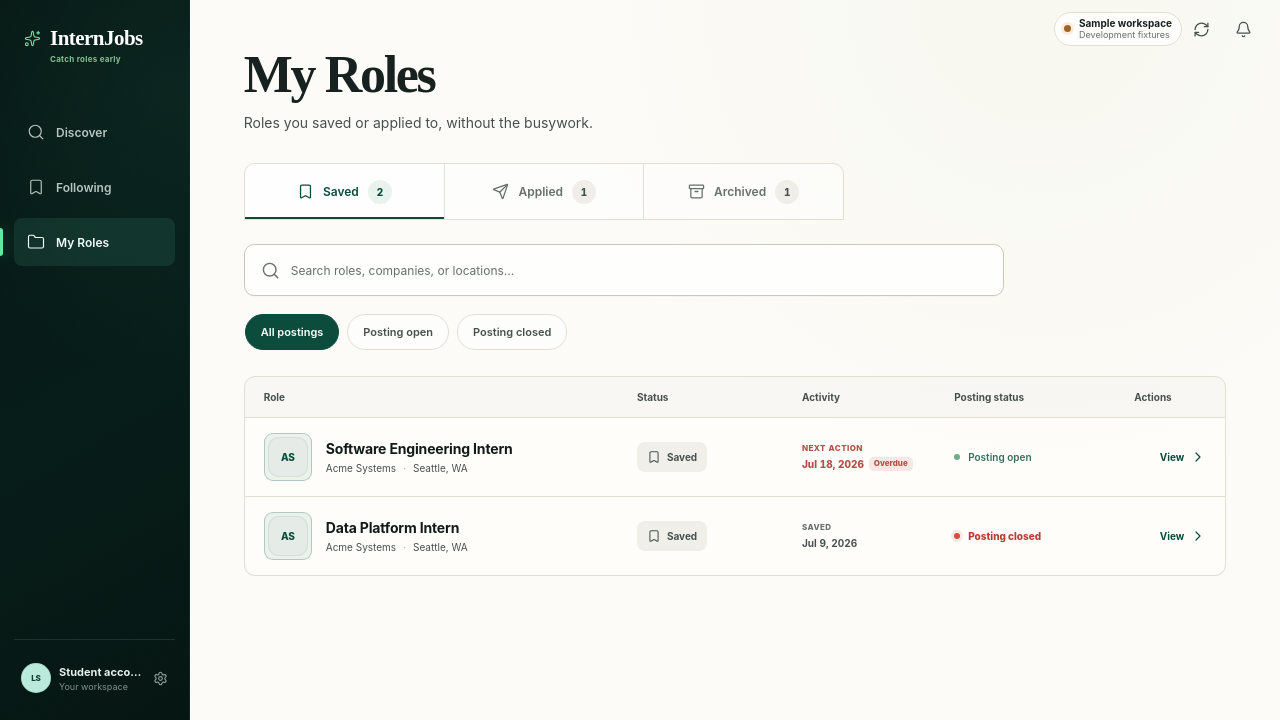
student workspace › groups saved, progressed, and archived roles while preserving useful stage details
This screenshot has width=1280, height=720.
expect the heading "My Roles" is shown: met, box [244, 46, 434, 103]
expect the text "Roles you saved or applied to, without the busywork." is shown: met, box [244, 114, 593, 131]
What coordinates should you click on to do the following:
click the tab with aria-label "Applied, 1 role"
I would click on:
 (544, 192)
Its box is [444, 164, 643, 219].
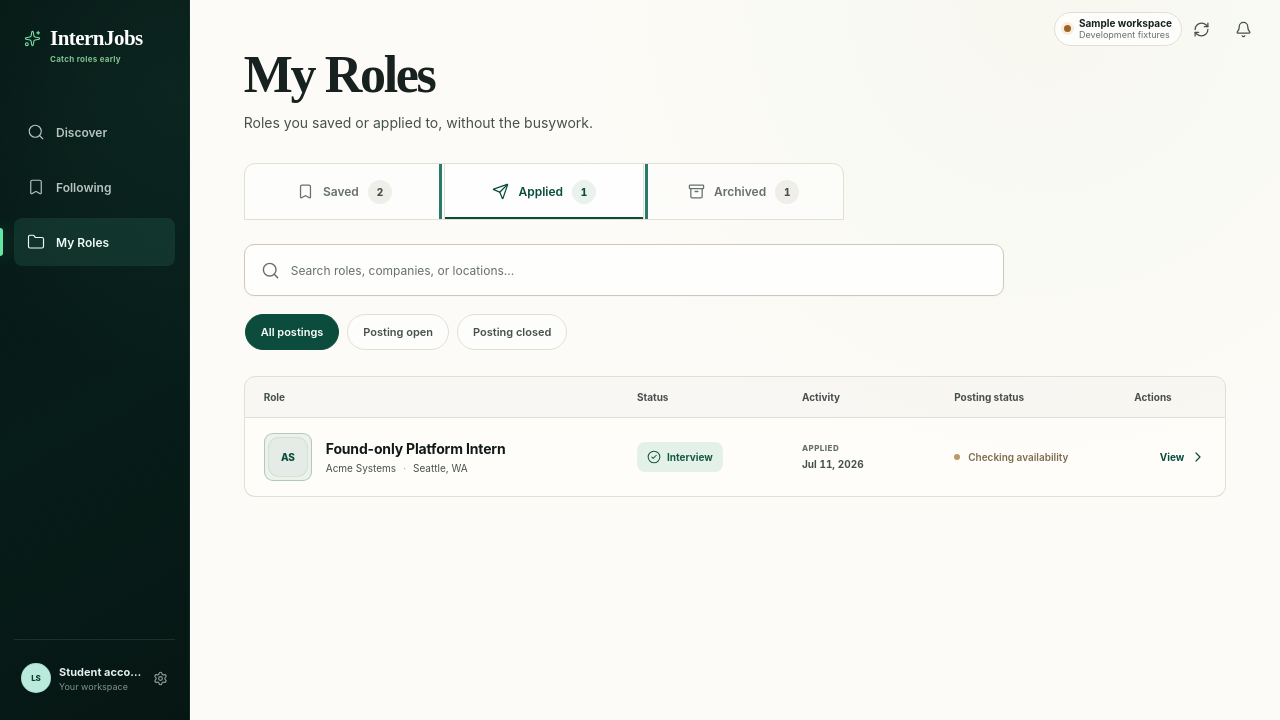
expect the text "Found-only Platform Intern" is shown: met, box [326, 440, 506, 457]
expect the text "Applied" below "Activity" is shown: met, box [802, 443, 839, 453]
expect the text "Checking availability" is shown: met, box [954, 451, 1068, 463]
What coordinates should you click on to do the following:
click the tab with aria-label "Archived, 1 role"
I would click on:
 (743, 192)
Its box is [643, 164, 843, 219].
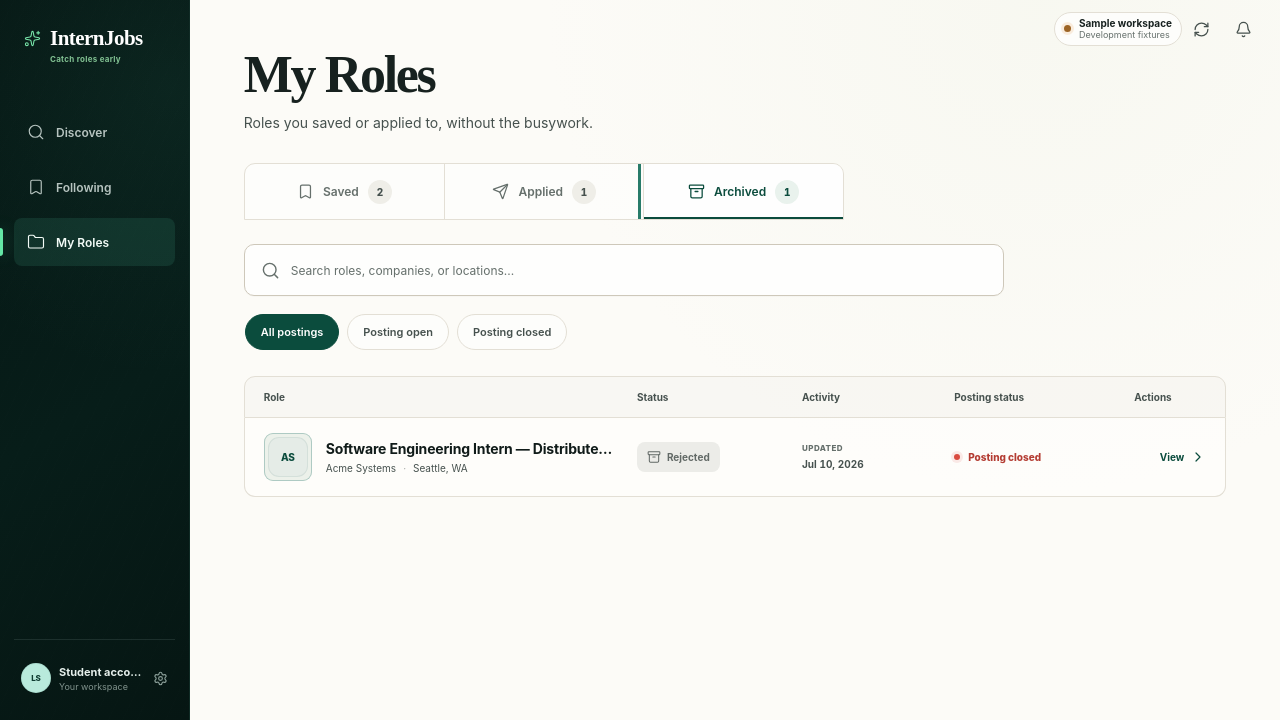
expect the text "Software Engineering Intern — Distributed Systems and Infrastructure Platform" is shown: met, box [326, 440, 618, 457]
expect the text "Rejected" is shown: met, box [637, 442, 720, 472]
expect the text "Posting closed" is shown: met, box [954, 451, 1041, 463]
